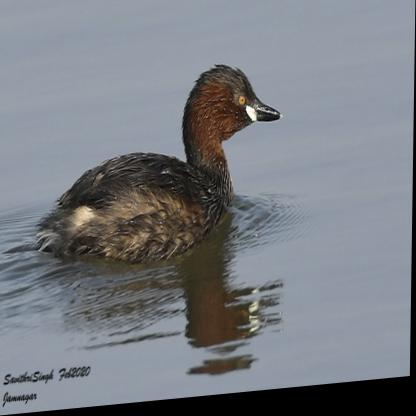Burung: (35, 63, 283, 272)
